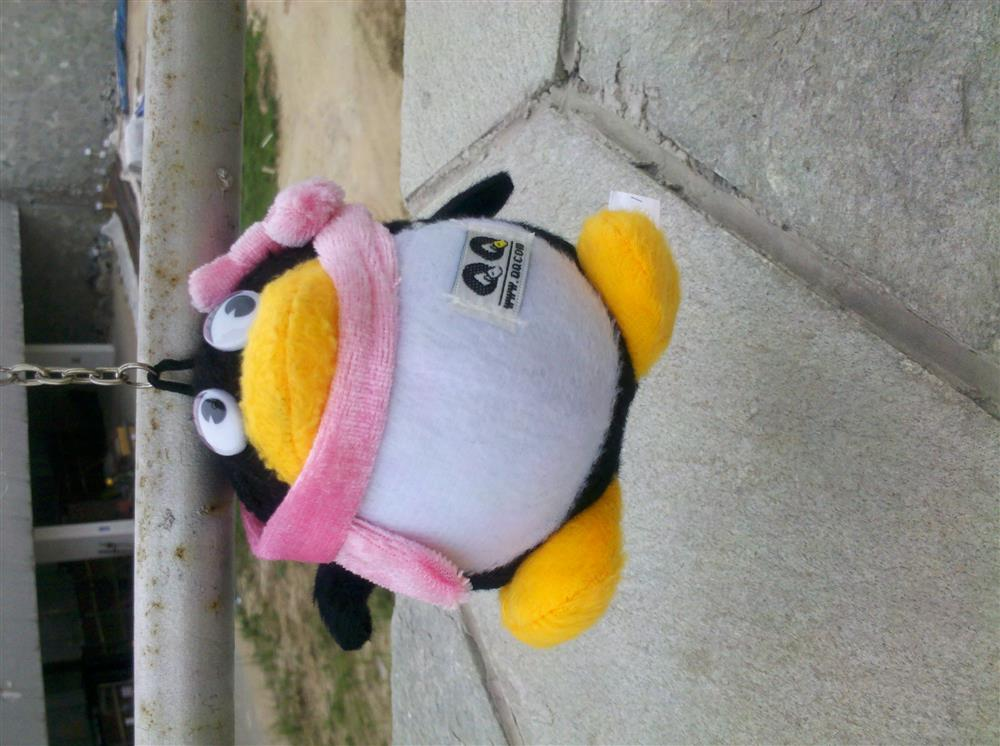Tencent_Penguin: (186, 167, 682, 650)
